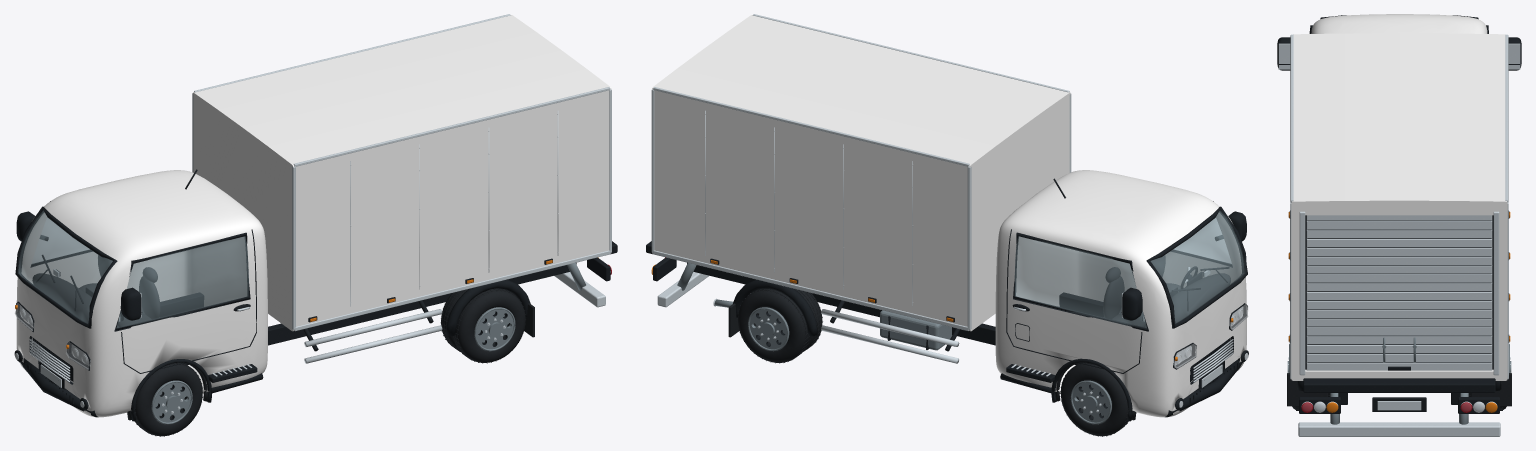
3 views of the same model, side by side, from view 1: azimuth 30°, elevation 25°; view 2: azimuth 150°, elevation 25°; view 3: azimuth 270°, elevation 25° (orthographic). The views are drawn at different scales.
Visible parts, largest first — view 1: Separate hollow 12-station ruled dry freight box, Forward-control truck hollow 12-station cab, Truck cab door window curved transparent pane -1, Truck raked laminated windscreen curved laminated transparen, Commercial tire formed sidewalls.002, Commercial tire formed sidewalls, Truck ladder chassis side rail, Seated cargo lower aluminium edge, Truck raked laminated windscreen recessed rubber gasket, Sculpted dashboard, Seated cargo roof aluminium edge, Truck cab door window curved transparent pane 1 (+14 smaller); view 2: Separate hollow 12-station ruled dry freight box, Forward-control truck hollow 12-station cab, Truck cab door window curved transparent pane 1, Truck raked laminated windscreen curved laminated transparen, Commercial tire formed sidewalls.004, Commercial tire formed sidewalls.001, Seated cargo lower aluminium edge.001, Truck ladder chassis side rail.001, Truck raked laminated windscreen recessed rubber gasket, Truck fuel reservoir, Sculpted dashboard, Seated cargo roof aluminium edge.001 (+16 smaller); view 3: Separate hollow 12-station ruled dry freight box, Forward-control truck hollow 12-station cab, Rear under-ride protection bar, Rear load threshold step, Rear roll-up formed horizontal door slat.004, Rear roll-up formed horizontal door slat.005, Rear roll-up formed horizontal door slat.006, Rear roll-up formed horizontal door slat.009, Rear roll-up formed horizontal door slat.010, Rear roll-up formed horizontal door slat.011, Rear roll-up formed horizontal door slat.012, Rear roll-up formed horizontal door slat.015 (+31 smaller).
Boxes of the visible parts, x1,y1,x2,y2 form: Separate hollow 12-station ruled dry freight box: (192, 15, 611, 331); Forward-control truck hollow 12-station cab: (16, 170, 267, 417); Truck cab door window curved transparent pane -1: (116, 236, 248, 327); Truck raked laminated windscreen curved laminated transparen: (18, 210, 112, 323); Commercial tire formed sidewalls.002: (453, 288, 525, 362); Commercial tire formed sidewalls: (134, 362, 202, 436); Truck ladder chassis side rail: (185, 262, 576, 364); Seated cargo lower aluminium edge: (294, 250, 610, 331); Truck raked laminated windscreen recessed rubber gasket: (15, 206, 117, 328); Sculpted dashboard: (32, 273, 91, 322); Seated cargo roof aluminium edge: (293, 87, 610, 166); Truck cab door window curved transparent pane 1: (32, 218, 89, 263); Separate hollow 12-station ruled dry freight box: (652, 15, 1070, 331); Forward-control truck hollow 12-station cab: (995, 170, 1246, 417); Truck cab door window curved transparent pane 1: (1014, 236, 1146, 328); Truck raked laminated windscreen curved laminated transparen: (1151, 210, 1244, 323); Commercial tire formed sidewalls.004: (738, 289, 810, 362); Commercial tire formed sidewalls.001: (1060, 362, 1129, 436); Seated cargo lower aluminium edge.001: (653, 250, 968, 330); Truck ladder chassis side rail.001: (687, 262, 1077, 364); Truck raked laminated windscreen recessed rubber gasket: (1146, 206, 1247, 328); Truck fuel reservoir: (880, 310, 952, 350); Sculpted dashboard: (1171, 273, 1230, 322); Seated cargo roof aluminium edge.001: (653, 87, 969, 166); Separate hollow 12-station ruled dry freight box: (1291, 33, 1507, 380); Forward-control truck hollow 12-station cab: (1311, 14, 1487, 33); Rear under-ride protection bar: (1298, 422, 1500, 436); Rear load threshold step: (1303, 378, 1495, 392); Rear roll-up formed horizontal door slat.004: (1306, 327, 1492, 335); Rear roll-up formed horizontal door slat.005: (1306, 318, 1492, 326); Rear roll-up formed horizontal door slat.006: (1306, 309, 1492, 317); Rear roll-up formed horizontal door slat.009: (1306, 283, 1492, 291); Rear roll-up formed horizontal door slat.010: (1306, 274, 1492, 282); Rear roll-up formed horizontal door slat.011: (1306, 265, 1492, 273); Rear roll-up formed horizontal door slat.012: (1306, 256, 1492, 264); Rear roll-up formed horizontal door slat.015: (1306, 230, 1492, 238).
Bounding box in the file's own units: 7.39 × 3.31 × 2.73.
10 materials, 9 textured.
